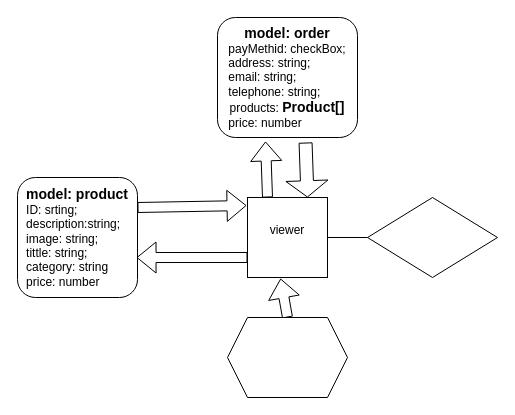
The diagram is 515 pixels wide and 415 high, and some of its shapes have lost their labels. The shapes that lost their labels are listed below. From the top down, each one's centre as x and y in pixels, then its label:
At (432,237): "validator".
At (287,357): "modal: open() close()".
